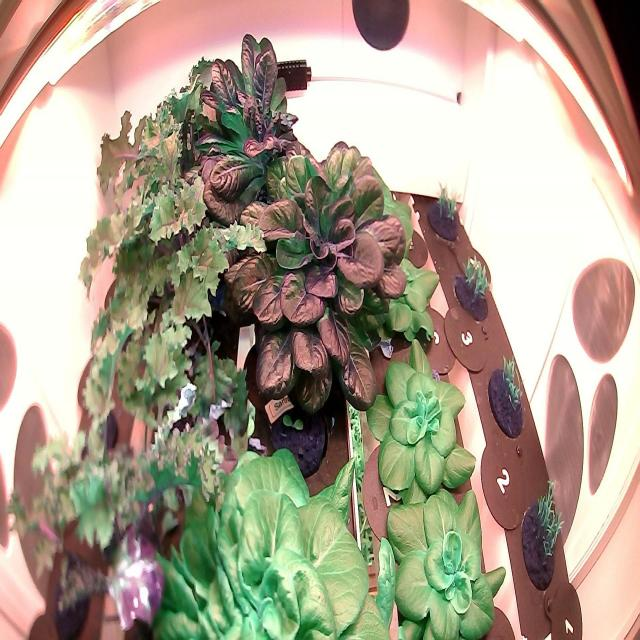Ready: (174, 133, 416, 430), (143, 442, 397, 639), (176, 22, 338, 240)
germination: (257, 378, 333, 482), (511, 474, 566, 600), (483, 353, 531, 440), (449, 248, 494, 330), (422, 182, 466, 249)
young: (380, 481, 511, 639), (366, 334, 484, 502), (358, 244, 446, 351)
